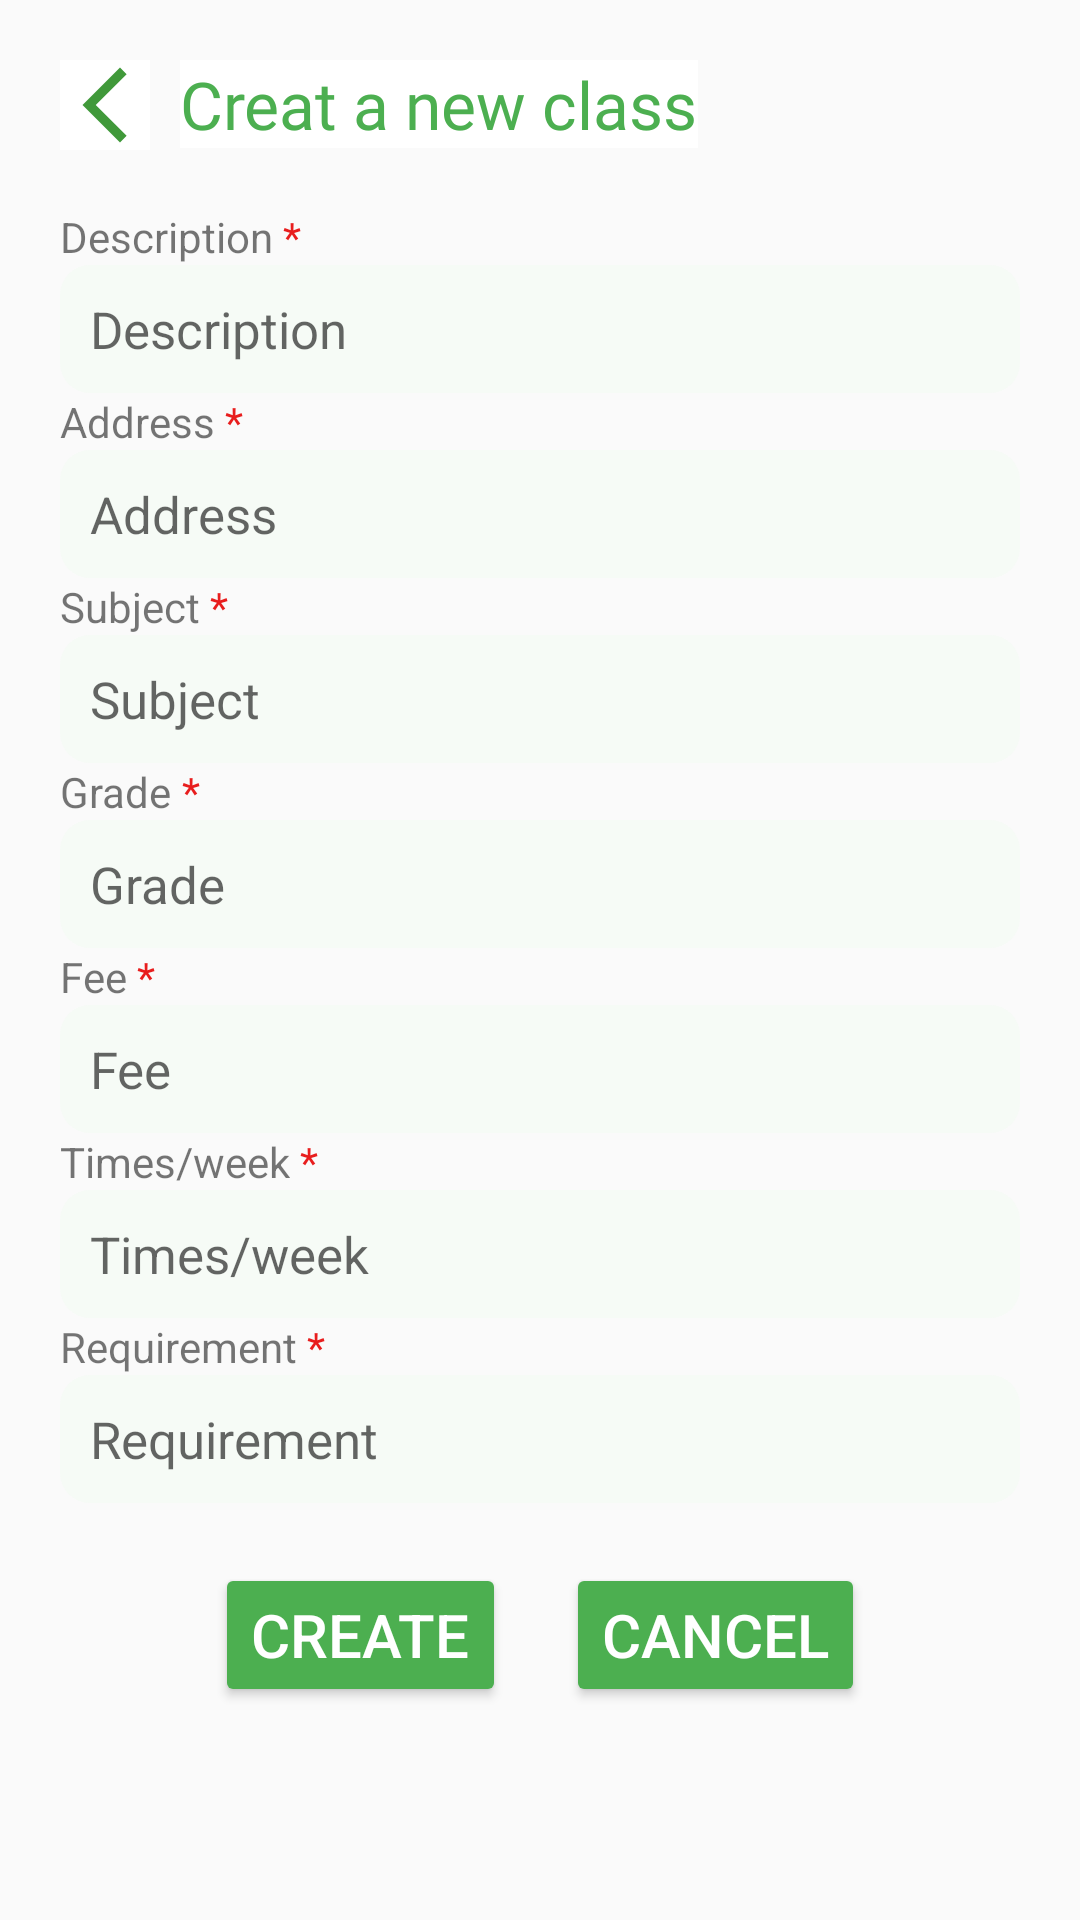

Icons on this 1080 × 1920 Android screen, each with the point to tap as [x,y]:
back: [105,105]
